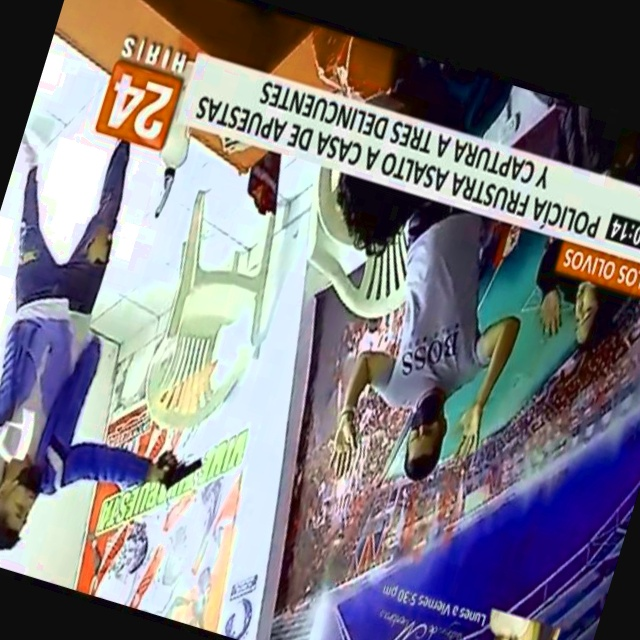gun: (141, 417, 220, 525)
